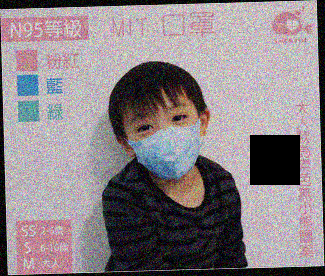with_mask: (125, 101, 203, 182)
